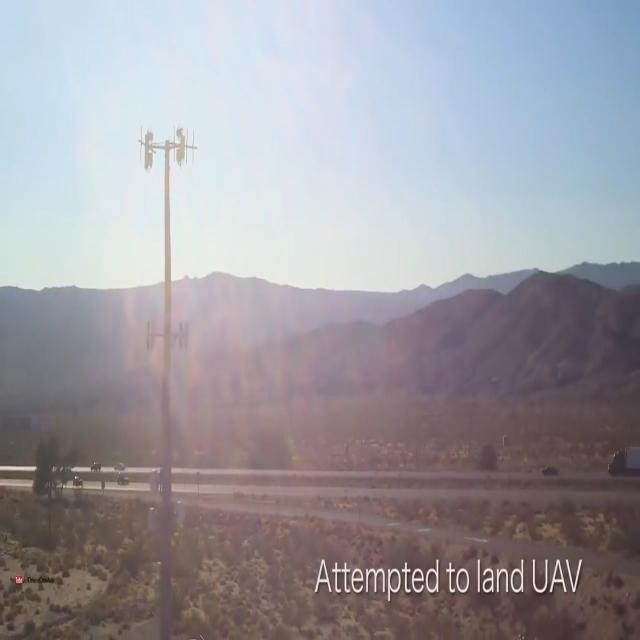Pole: (138, 121, 196, 640)
